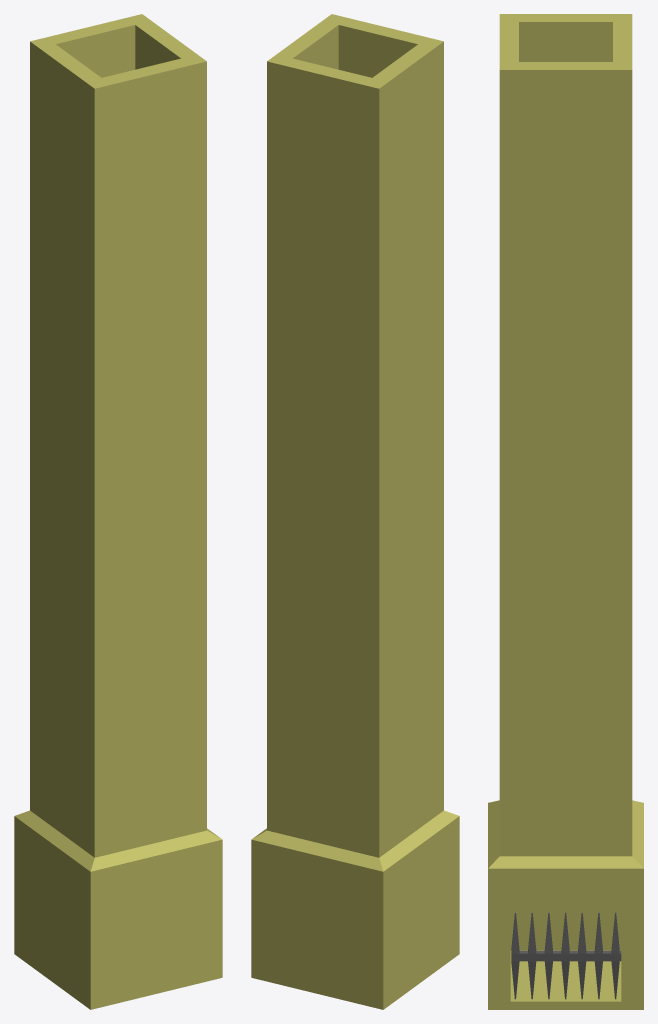
The model's file is Fireplace.glb.
3 views of the same model, side by side, from view 1: azimuth 30°, elevation 25°; view 2: azimuth 150°, elevation 25°; view 3: azimuth 270°, elevation 25° (orthographic). The views are drawn at different scales.
Visible parts, largest first — view 1: Fireplace-Chimney; view 2: Fireplace-Chimney; view 3: Fireplace-Chimney, Barb.
Part boxes in pixels (<box>): Fireplace-Chimney: <box>14,14,222,1009</box>; Fireplace-Chimney: <box>251,14,459,1009</box>; Fireplace-Chimney: <box>488,14,643,1009</box>; Barb: <box>511,912,621,999</box>.
Bounding box in the file's own units: 2 × 13.24 × 2.
